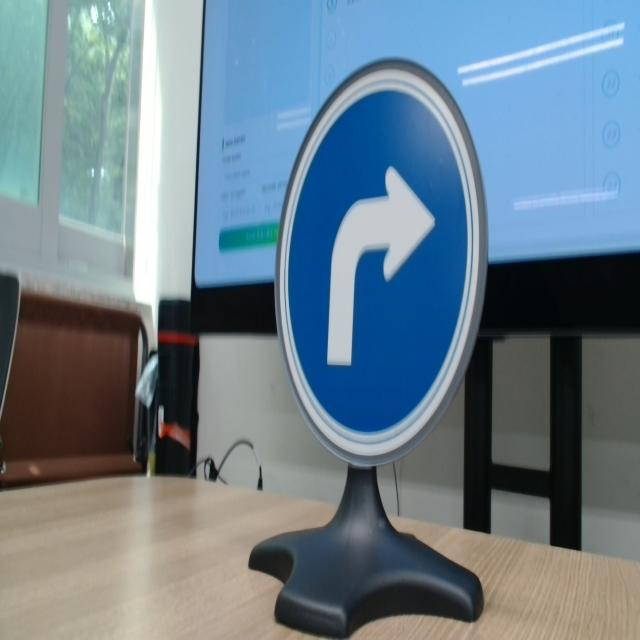right_dierection: (260, 60, 491, 468)
